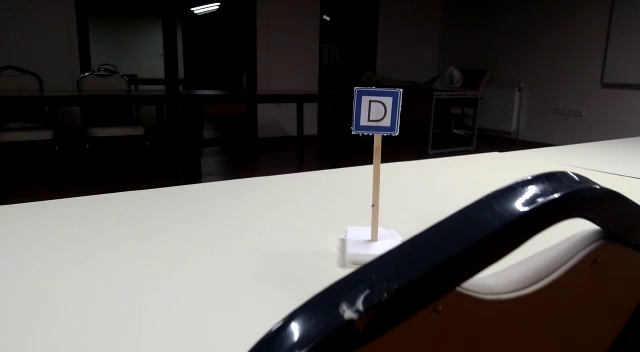durak: (354, 89, 400, 132)
